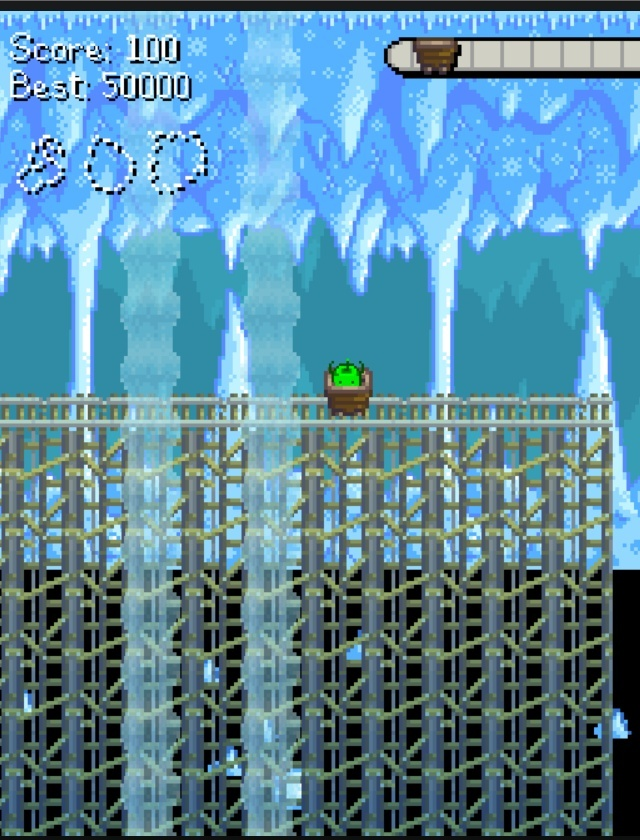minecart: (324, 369, 370, 414)
score: (120, 31, 184, 69)
tracks: (0, 384, 319, 433)
